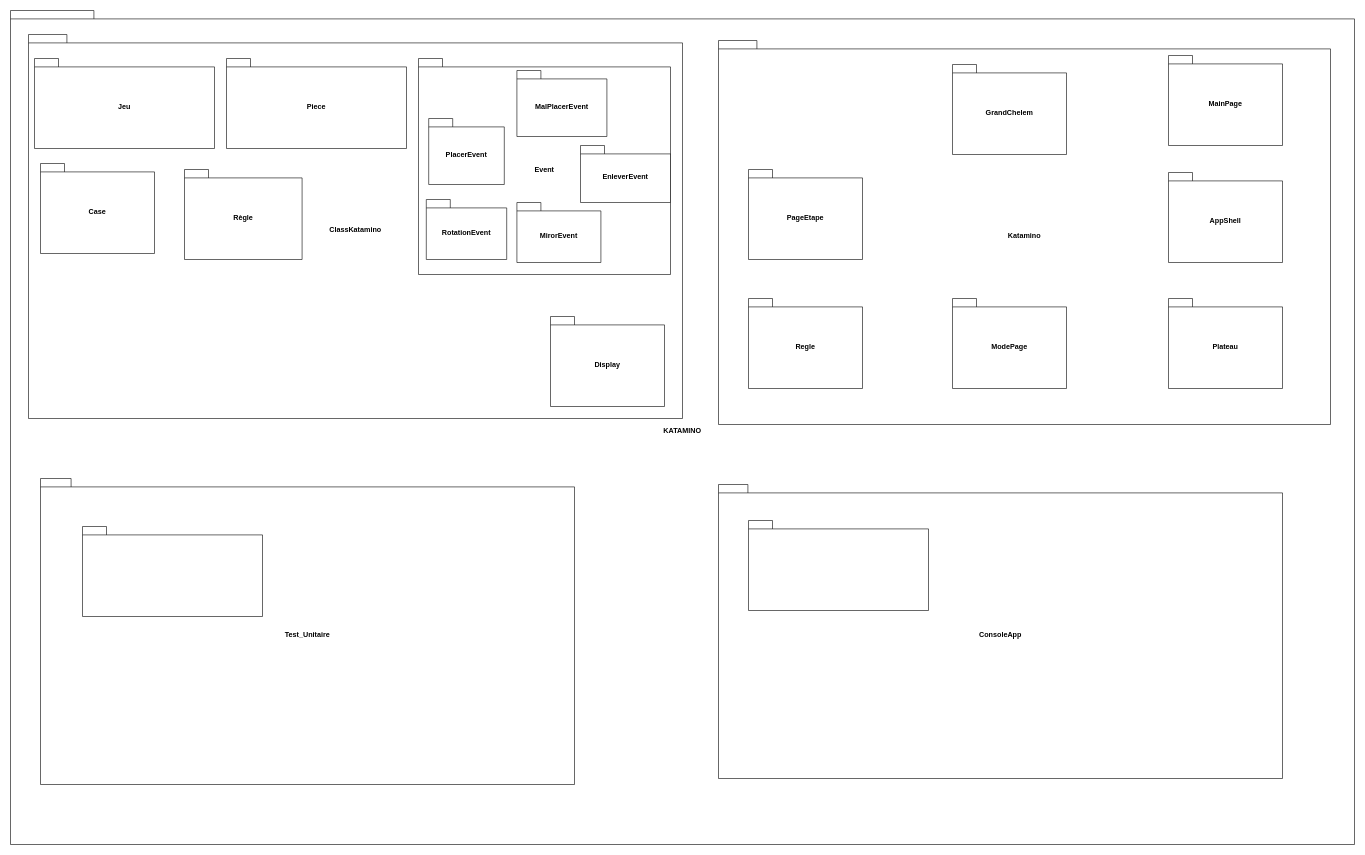
This 1365x855 diagram has some shape labels left out. The shapes that lost their labels are listed below. From the top down, each one's centre as x and y in pixels, then its label:
the point at 172,571: TestRègle
the point at 838,565: Program
